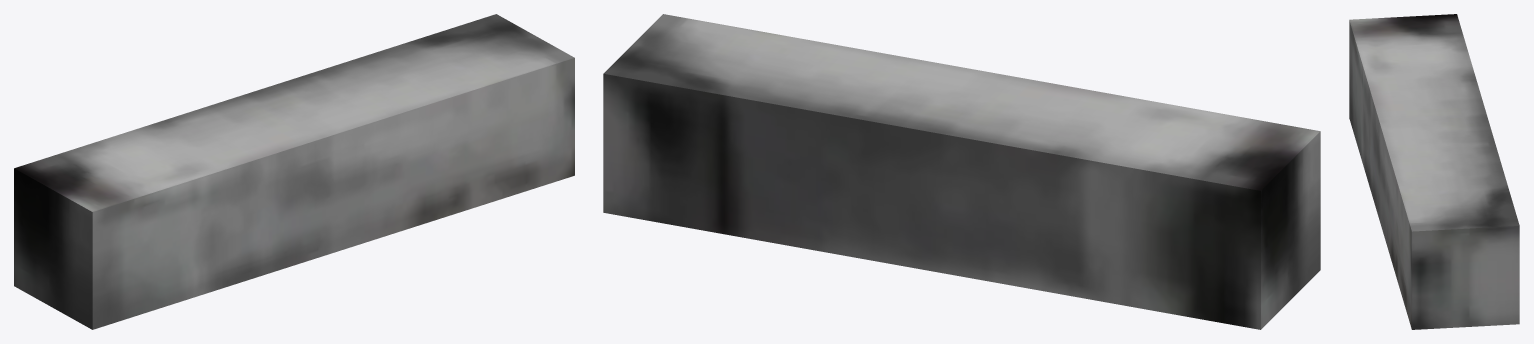
File: frame__wheel_fork_strut_1.glb
3 views of the same model, side by side, from view 1: azimuth 30°, elevation 25°; view 2: azimuth 150°, elevation 25°; view 3: azimuth 270°, elevation 25° (orthographic). The views are drawn at different scales.
Parts seen in each view (by area): view 1: world; view 2: world; view 3: world.
Part boxes in pixels (<box>): world: <box>14,14,574,329</box>; world: <box>603,14,1320,329</box>; world: <box>1349,14,1519,329</box>.
Size of the model in its own units: 0.1232 by 0.026 by 0.0408.
Materials: 1 (1 with a texture image).
